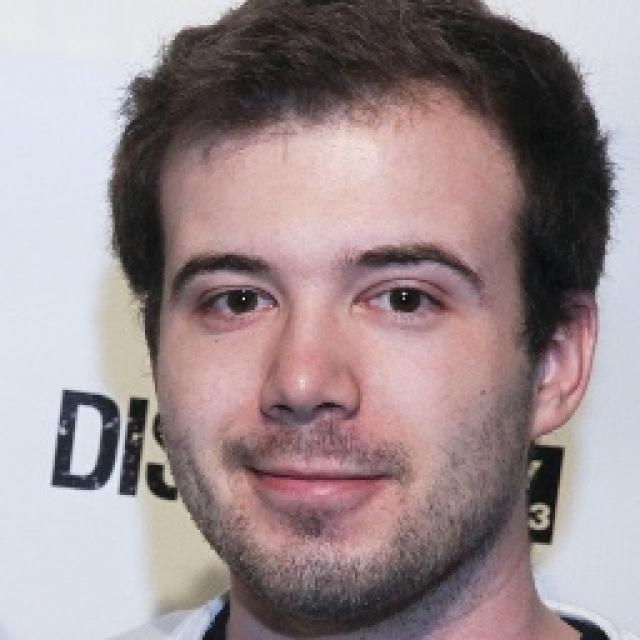earlobe: (527, 402, 578, 444)
eye: (364, 280, 445, 320), (194, 283, 279, 321)
nose: (265, 407, 357, 454)
wholeear: (524, 290, 599, 440)
